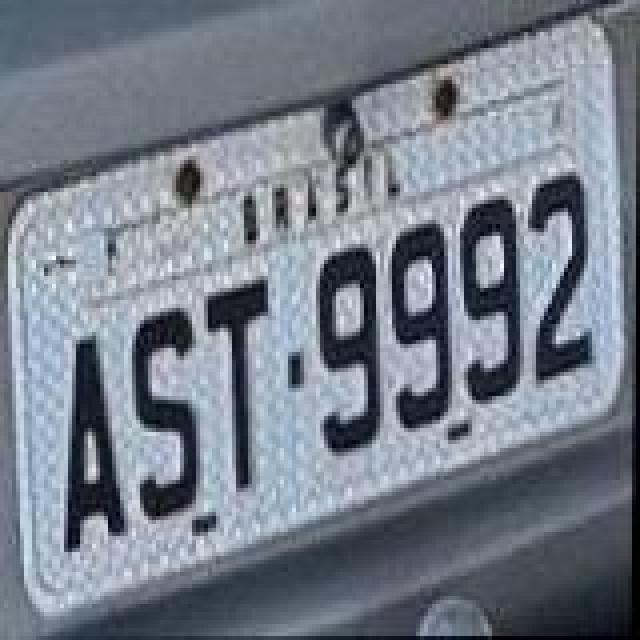2: (524, 174, 596, 386)
9: (312, 244, 384, 456), (456, 196, 528, 408), (386, 218, 454, 434)
A: (64, 332, 132, 556)
S: (130, 306, 206, 522)
T: (200, 272, 272, 492)
